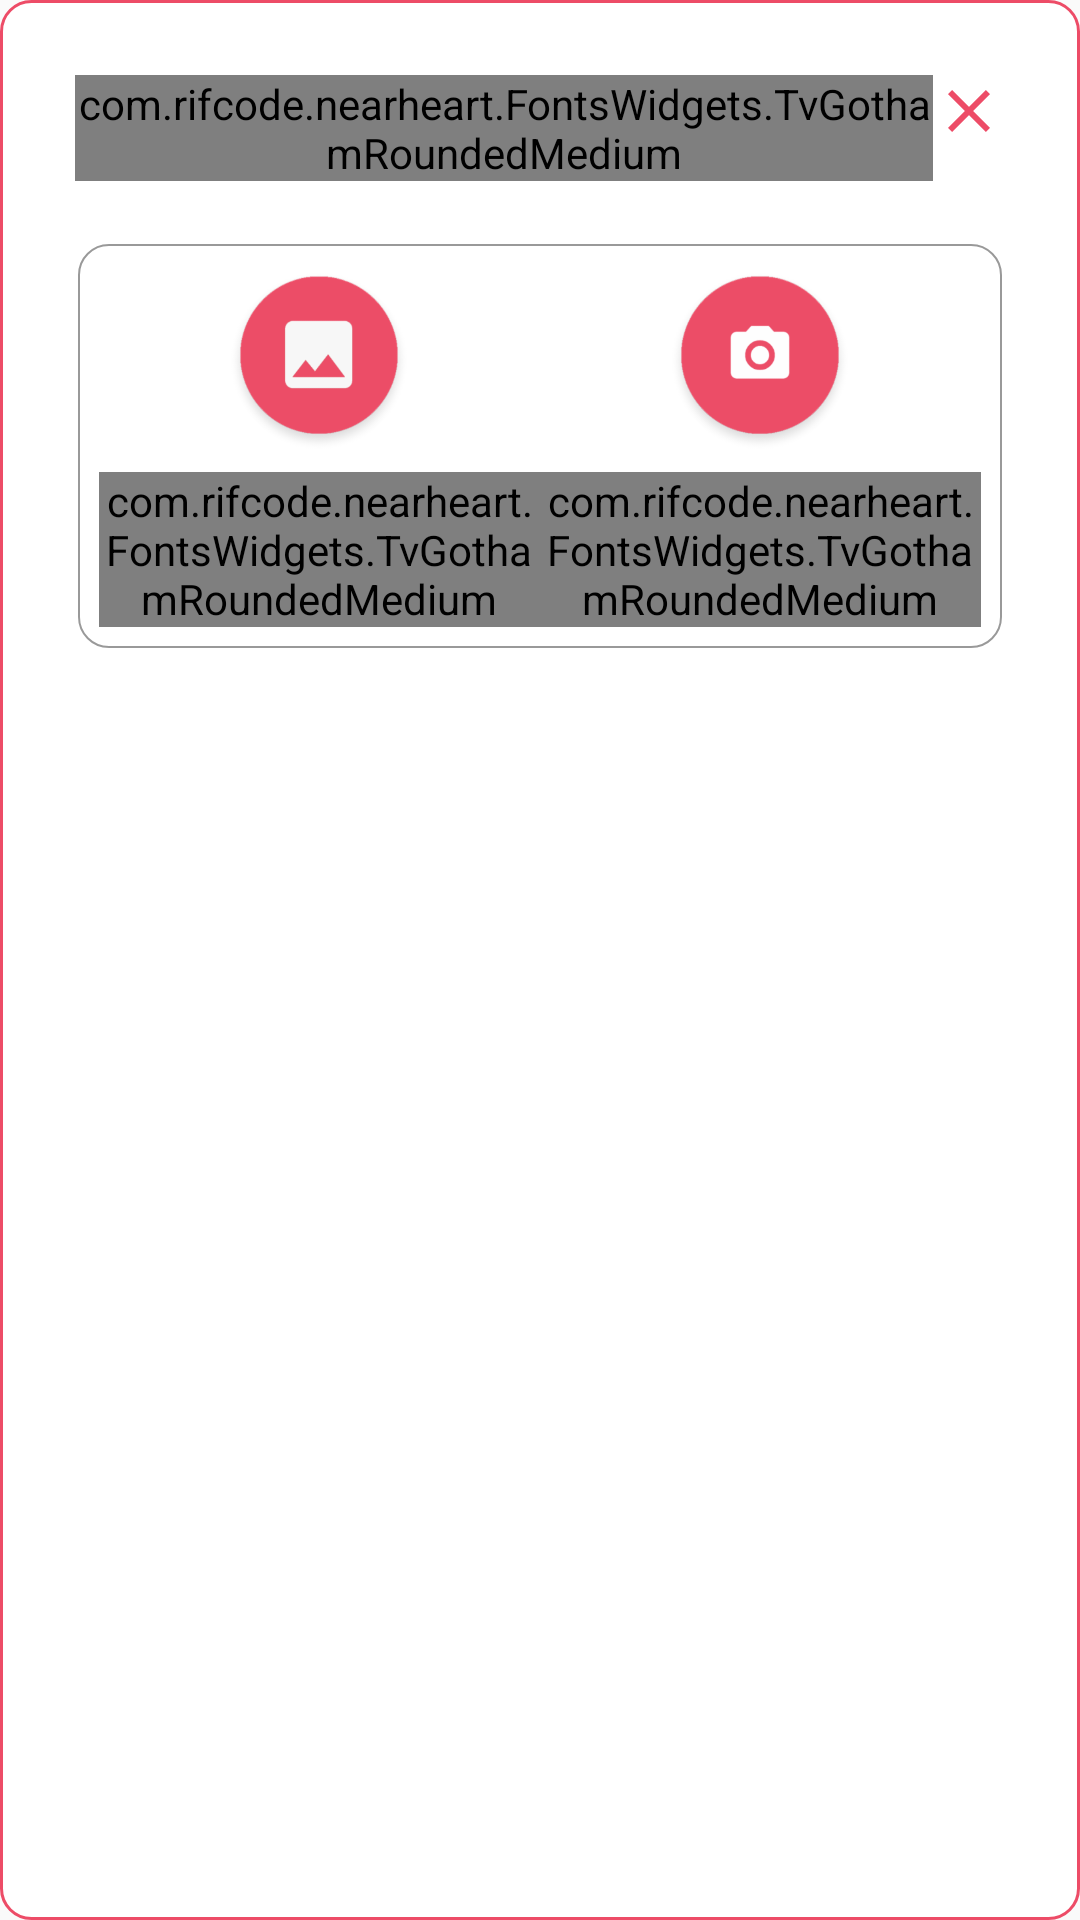

Icon bounding boxes for this 1080x1920 phone screenshot, format [left=x1, top=y1, right=x2, bottom=y2]:
device access camera: [left=681, top=276, right=839, bottom=437]
exit dialog: [left=948, top=90, right=990, bottom=132]
select galery: [left=240, top=276, right=398, bottom=437]
